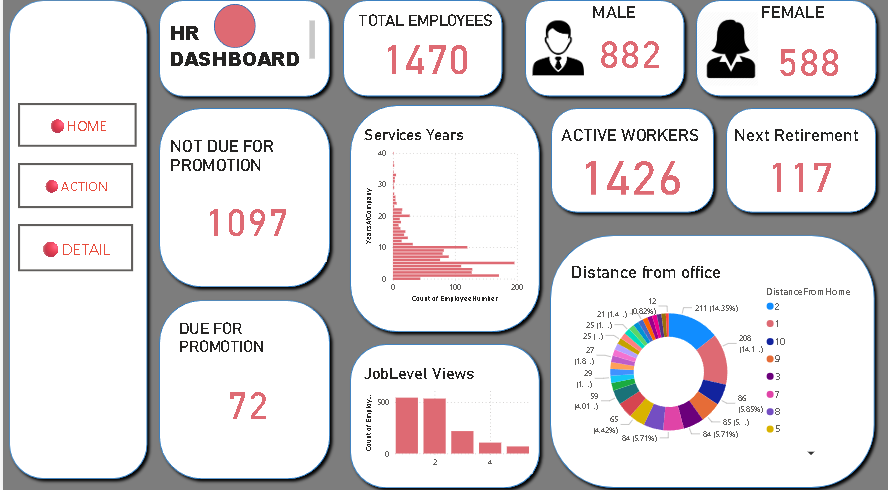

The page's visual inventory and layout, read from the dashboard file:
{"tool":"powerbi","page":{"name":"Page 1","canvas":[1280,720],"ordinal":0},"visuals":[{"type":"shape","box":[216.7,0,263.3,156.7],"z":0},{"type":"shape","box":[989.4,0,277.2,156.2],"z":1000},{"type":"shape","box":[742.5,0,246.9,156.2],"z":2000},{"type":"shape","box":[480.4,0,246.9,156.2],"z":3000},{"type":"shape","box":[216.7,431.7,263.7,275.5],"z":4000},{"type":"shape","box":[216.7,156.2,263.7,275.5],"z":5000},{"type":"shape","box":[781.1,156.2,252,168],"z":6000},{"type":"shape","box":[490.5,151.2,290.6,344.4],"z":7000},{"type":"shape","box":[1033.1,156.2,233.5,168],"z":8000},{"type":"shape","box":[490.5,495.5,290.6,225.1],"z":9000},{"type":"shape","box":[778.3,338.3,485,381.7],"z":10000},{"type":"shape","box":[0,0,216.7,707.2],"z":11000},{"type":"image","box":[989.4,13.4,117.6,131],"z":12000},{"type":"card","title":"FEMALE","fields":{"Values":["HR Analytics Data (2).FEMALE"]},"box":[1086.8,13.4,144.5,131],"z":13000},{"type":"image","box":[754.2,33.6,89,89],"z":14000},{"type":"card","title":"MALE","fields":{"Values":["HR Analytics Data (2).MALE"]},"box":[843.3,13.4,119.3,109.2],"z":15000},{"type":"card","title":"NOT DUE FOR PROMOTION","fields":{"Values":["HR Analytics Data.Not Due for Promotion"]},"box":[236.9,206.6,230.1,179.7],"z":16000},{"type":"card","title":"TOTAL EMPLOYEES","fields":{"Values":["HR Analytics Data.Total Emp"]},"box":[507.3,25.2,203.3,97.4],"z":17000},{"type":"card","title":"DUE FOR PROMOTION","fields":{"Values":["data csv promomtion.Due for promotion"]},"box":[248.6,468.7,206.6,184.8],"z":18000},{"type":"columnChart","title":" JobLevel Views","fields":{"Category":["HR Analytics Data.JobLevel"],"Y":["HR Analytics Data.EmployeeNumber"]},"box":[515.7,532.5,246.9,157.9],"z":19000},{"type":"clusteredBarChart","title":"Services Years","fields":{"Category":["HR Analytics Data.YearsAtCompany"],"Y":["HR Analytics Data.EmployeeNumber"]},"box":[515.7,189.8,238.5,258.7],"z":20000},{"type":"donutChart","title":"Distance from office","fields":{"Category":["HR Analytics Data.DistanceFromHome"],"Y":["HR Analytics Data.EmployeeNumber"]},"box":[813.3,386.7,418.3,286.7],"z":21000},{"type":"card","title":"ACTIVE WORKERS","fields":{"Values":["HR Analytics Data.Active Workers1"]},"box":[799.6,189.8,211.7,104.1],"z":22000},{"type":"card","title":"Next Retirement","fields":{"Values":["data csv Retrenchment (2).Will be retrenched"]},"box":[1048.2,189.8,198.2,104.1],"z":23000},{"type":"actionButton","box":[22.2,331.5,165.8,68.4],"z":25000},{"type":"actionButton","box":[22.2,242.7,165.8,64.9],"z":27000},{"type":"actionButton","box":[22.2,157.2,170.9,63.2],"z":28000},{"type":"textbox","box":[236.7,33.3,218.3,88.3],"z":30000},{"type":"shape","box":[303.3,15,60,63.3],"z":31000}]}

Visuals, with their boxes in screenshot pixels (x1, y1, x2, y2), scaled from the page's 1280x720 canvas onto the 888x490 screenshot:
shape: {"left": 150, "top": 0, "right": 333, "bottom": 107}
shape: {"left": 686, "top": 0, "right": 879, "bottom": 106}
shape: {"left": 515, "top": 0, "right": 686, "bottom": 106}
shape: {"left": 333, "top": 0, "right": 505, "bottom": 106}
shape: {"left": 150, "top": 294, "right": 333, "bottom": 481}
shape: {"left": 150, "top": 106, "right": 333, "bottom": 294}
shape: {"left": 542, "top": 106, "right": 717, "bottom": 221}
shape: {"left": 340, "top": 103, "right": 542, "bottom": 337}
shape: {"left": 717, "top": 106, "right": 879, "bottom": 221}
shape: {"left": 340, "top": 337, "right": 542, "bottom": 489}
shape: {"left": 540, "top": 230, "right": 876, "bottom": 489}
shape: {"left": 0, "top": 0, "right": 150, "bottom": 481}
image: {"left": 686, "top": 9, "right": 768, "bottom": 98}
"FEMALE" card: {"left": 754, "top": 9, "right": 854, "bottom": 98}
image: {"left": 523, "top": 23, "right": 585, "bottom": 83}
"MALE" card: {"left": 585, "top": 9, "right": 668, "bottom": 83}
"NOT DUE FOR PROMOTION" card: {"left": 164, "top": 141, "right": 324, "bottom": 263}
"TOTAL EMPLOYEES" card: {"left": 352, "top": 17, "right": 493, "bottom": 83}
"DUE FOR PROMOTION" card: {"left": 172, "top": 319, "right": 316, "bottom": 445}
" JobLevel Views" columnChart: {"left": 358, "top": 362, "right": 529, "bottom": 470}
"Services Years" clusteredBarChart: {"left": 358, "top": 129, "right": 523, "bottom": 305}
"Distance from office" donutChart: {"left": 564, "top": 263, "right": 854, "bottom": 458}
"ACTIVE WORKERS" card: {"left": 555, "top": 129, "right": 702, "bottom": 200}
"Next Retirement" card: {"left": 727, "top": 129, "right": 865, "bottom": 200}
actionButton: {"left": 15, "top": 226, "right": 130, "bottom": 272}
actionButton: {"left": 15, "top": 165, "right": 130, "bottom": 209}
actionButton: {"left": 15, "top": 107, "right": 134, "bottom": 150}
textbox: {"left": 164, "top": 23, "right": 316, "bottom": 83}
shape: {"left": 210, "top": 10, "right": 252, "bottom": 53}
